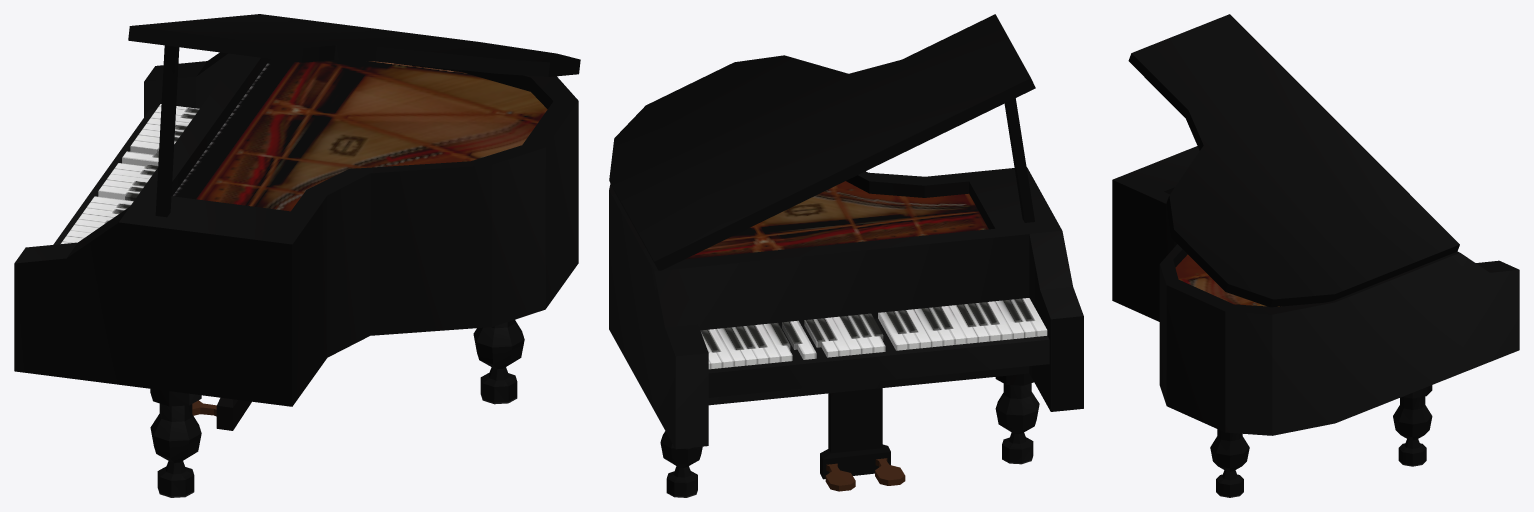
Rendered from Piano.fbx.
3 renders of one model, left to right at view 1: azimuth 30°, elevation 25°; view 2: azimuth 150°, elevation 25°; view 3: azimuth 270°, elevation 25°, orthographic. The views are drawn at different scales.
Visible parts, largest first — view 1: PianoKeys; view 2: PianoKeys; view 3: PianoKeys.
Part boxes in pixels (x1,y1,x2,y2): PianoKeys: (14, 14, 580, 497); PianoKeys: (609, 14, 1083, 497); PianoKeys: (1112, 14, 1519, 497).
Size of the model in its own units: 280 by 226 by 243.
